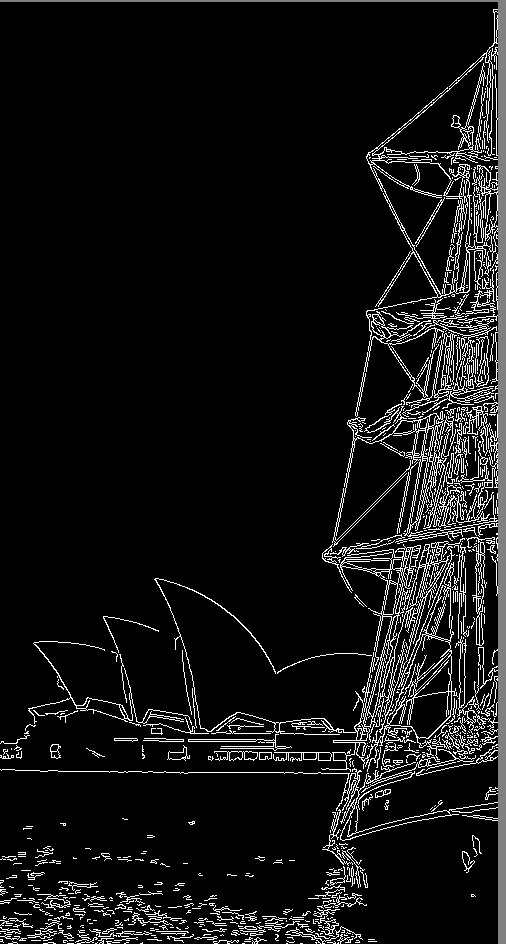opera house: (15, 521, 383, 767)
